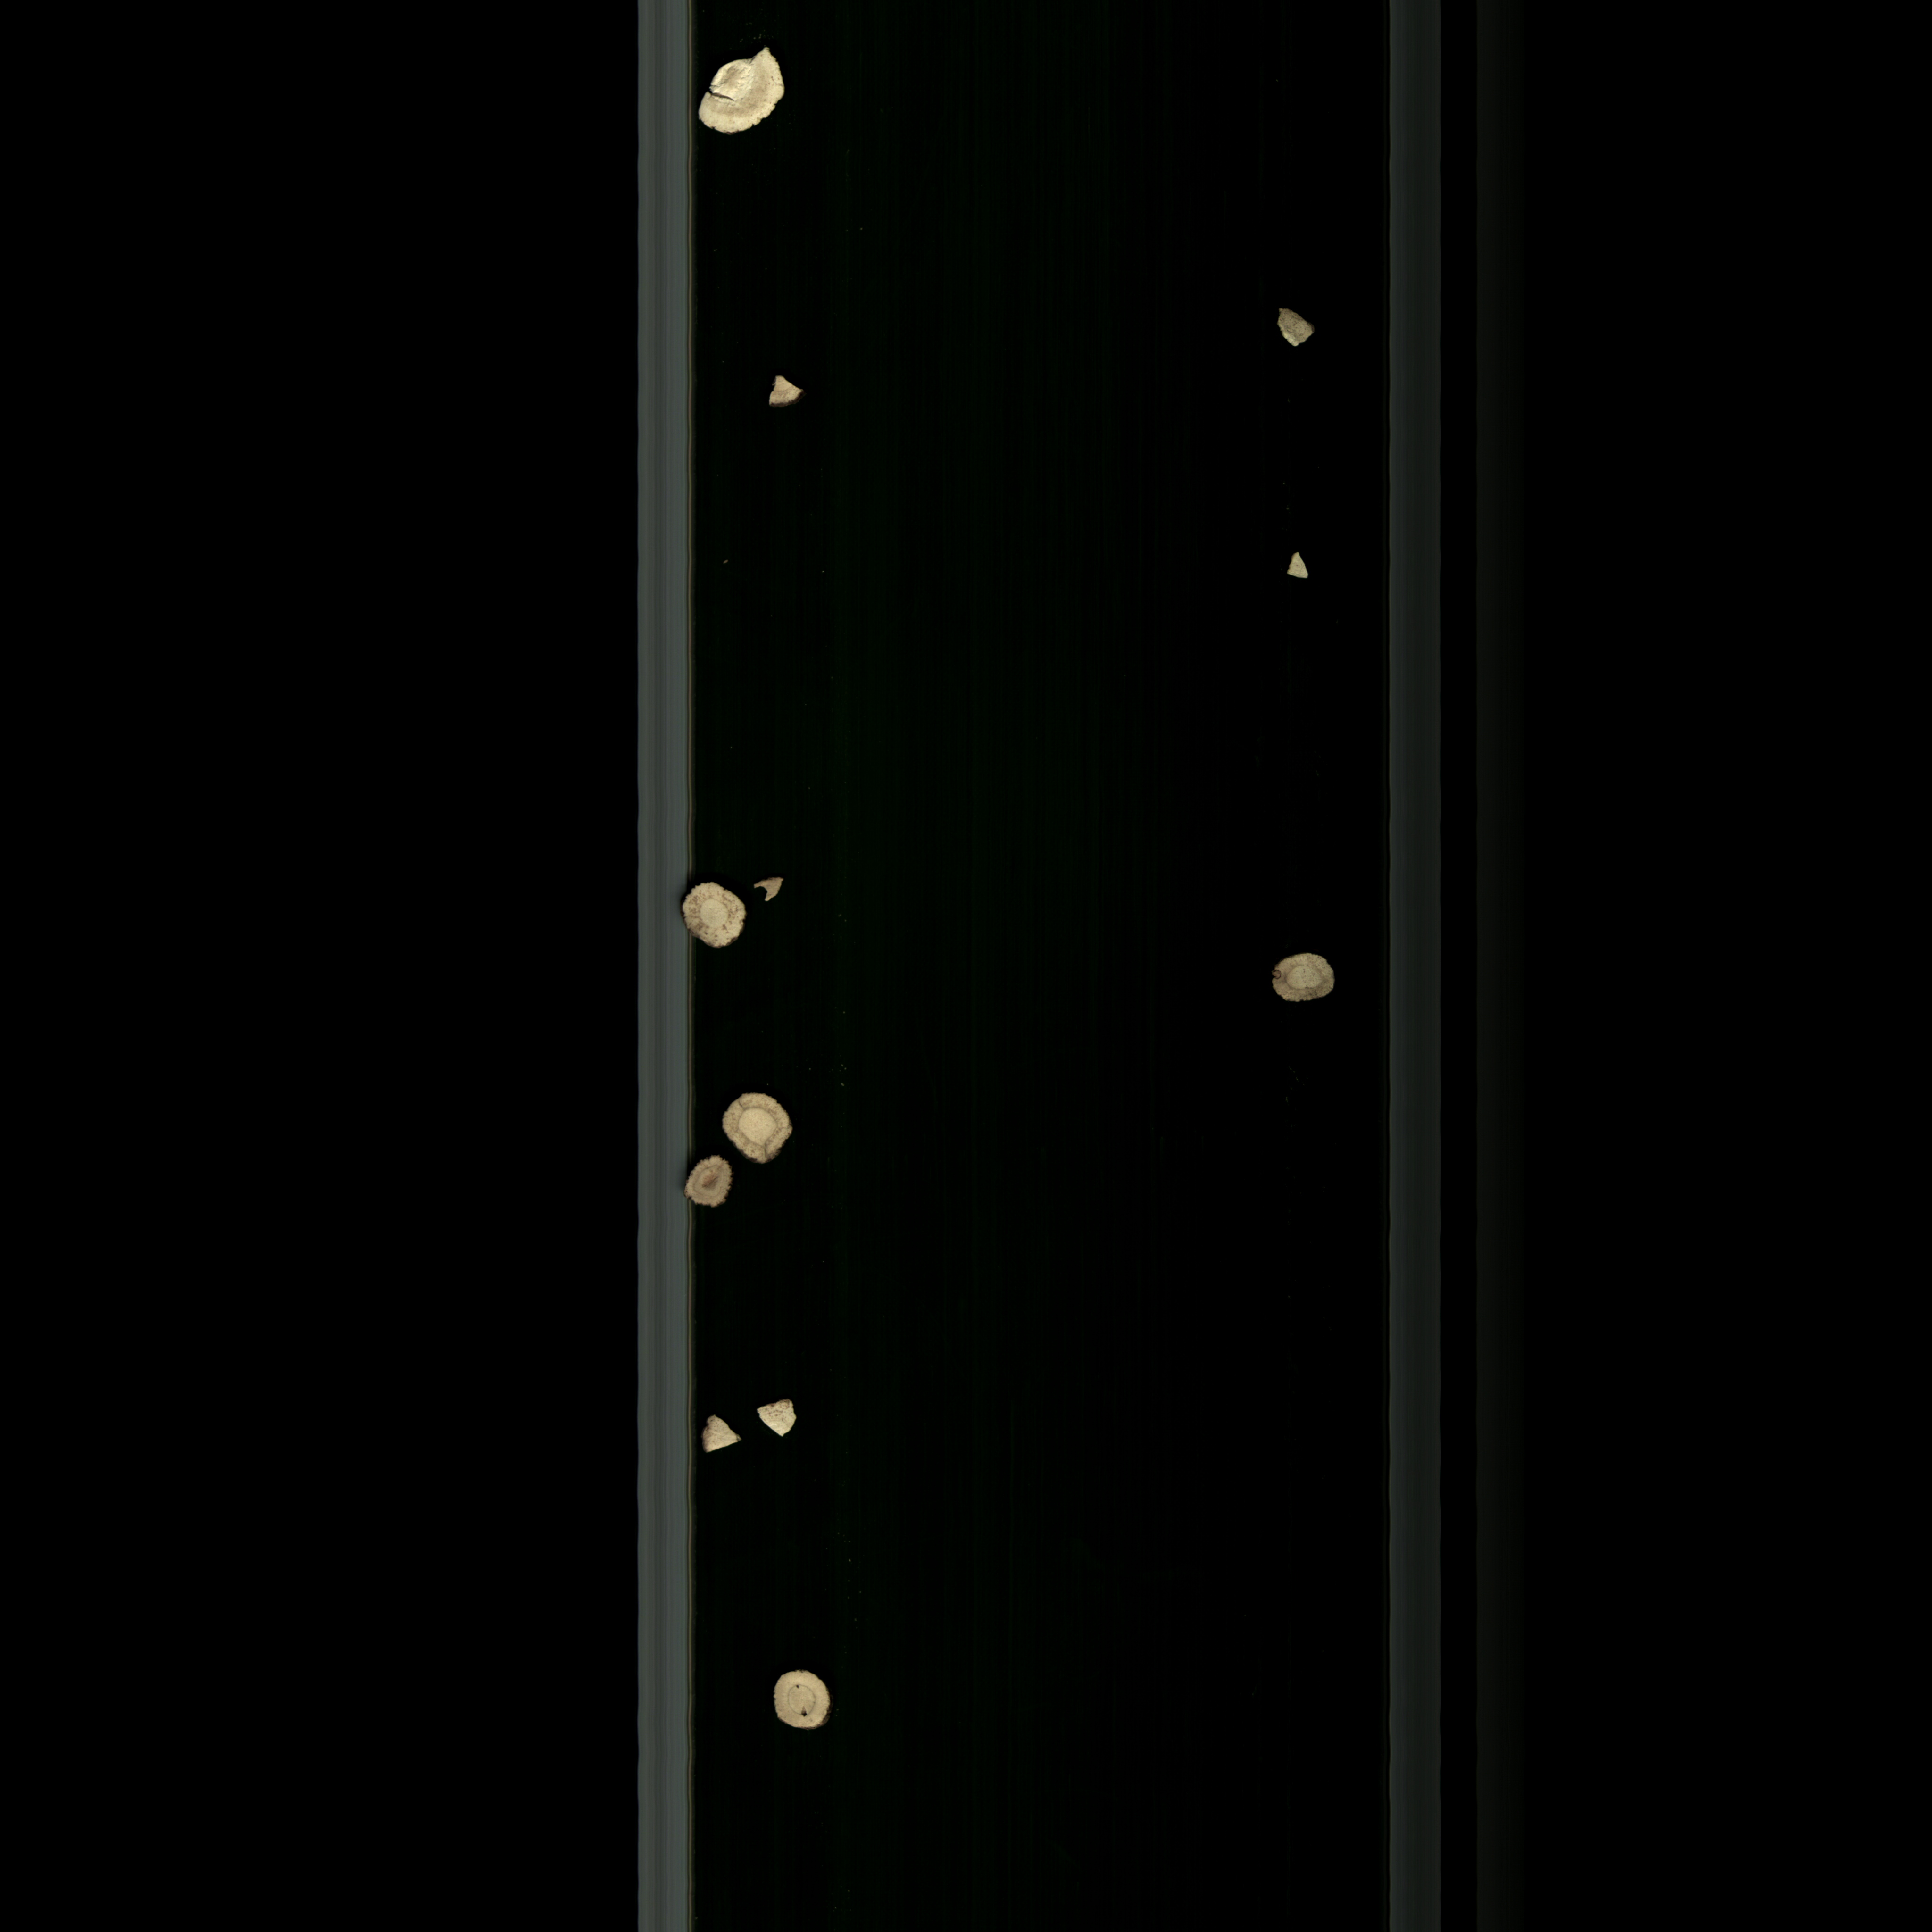debris: (692, 41, 791, 152)
dreg: (1260, 303, 1327, 356), (688, 1410, 757, 1461), (759, 1392, 807, 1447), (764, 368, 816, 414), (1274, 547, 1320, 594), (755, 869, 794, 908)
hole: (757, 1663, 851, 1750)
moldy: (671, 1154, 750, 1219)
